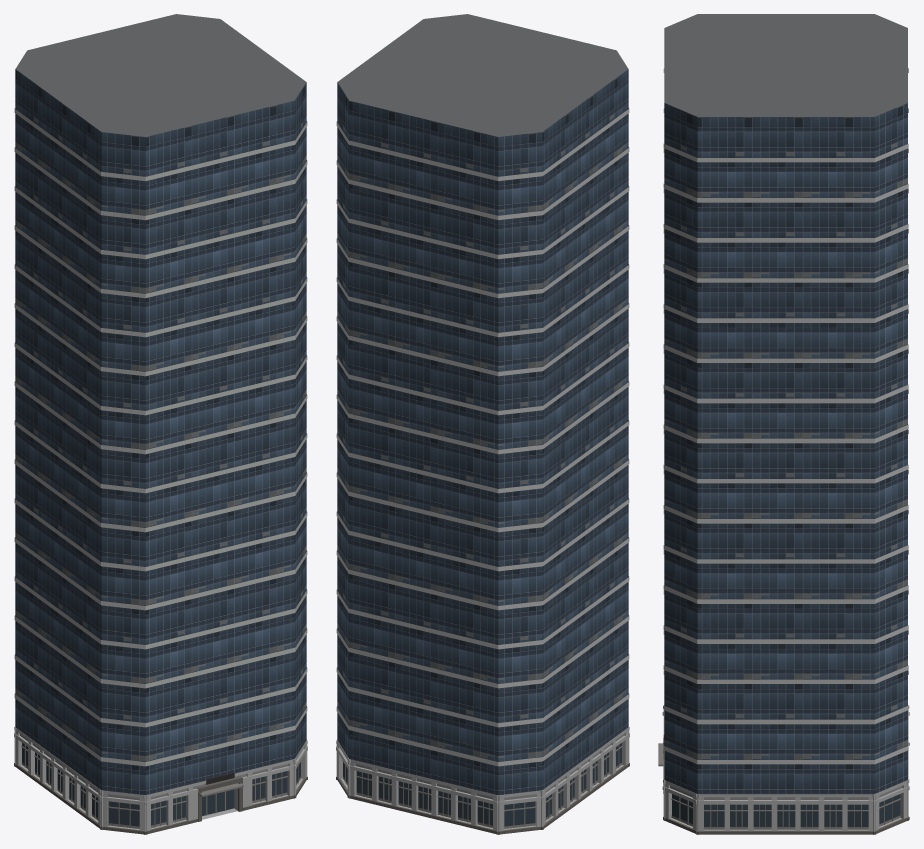
File: bank_of_america_fifth_ave.glb
3 renders of one model, left to right at view 1: azimuth 30°, elevation 25°; view 2: azimuth 150°, elevation 25°; view 3: azimuth 270°, elevation 25°, orthographic. The views are drawn at different scales.
Parts seen in each view (by area): view 1: bank_of_america_fifth_ave; view 2: bank_of_america_fifth_ave; view 3: bank_of_america_fifth_ave.
Part boxes in pixels (<box>): bank_of_america_fifth_ave: <box>14,14,307,834</box>; bank_of_america_fifth_ave: <box>336,14,629,834</box>; bank_of_america_fifth_ave: <box>658,14,909,834</box>.
Size of the model in its own units: 44.62 by 143 by 45.41.
Materials: 2 (2 with a texture image).
